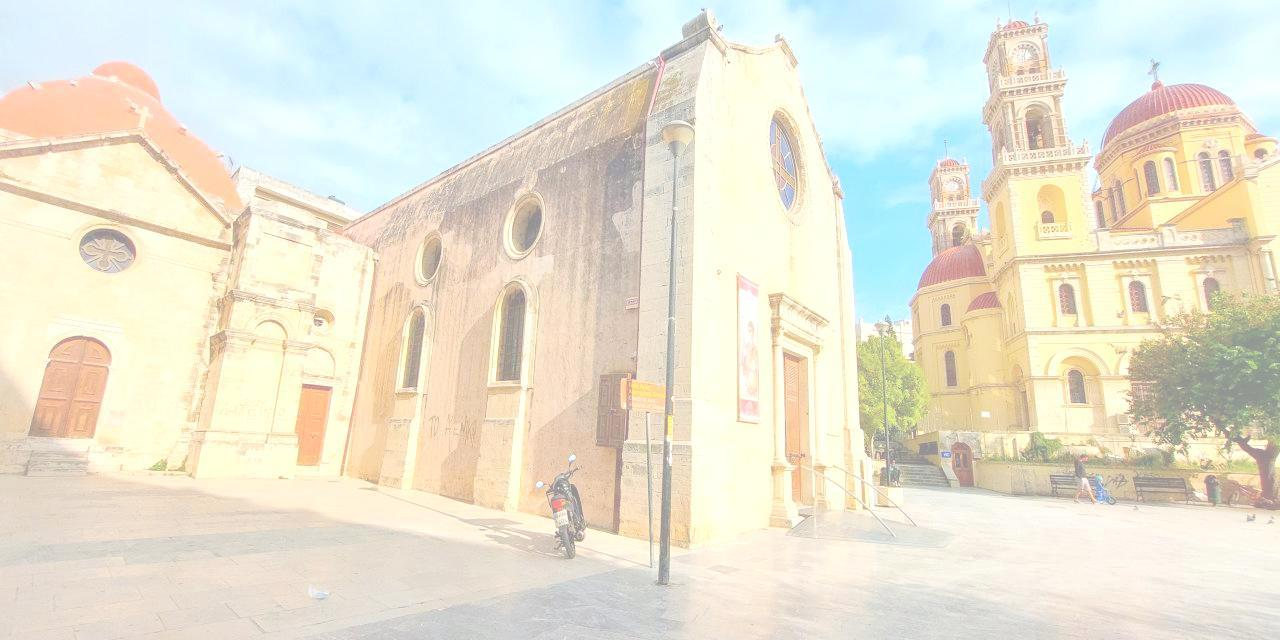Agia Aikaterini: (3, 2, 872, 543)
